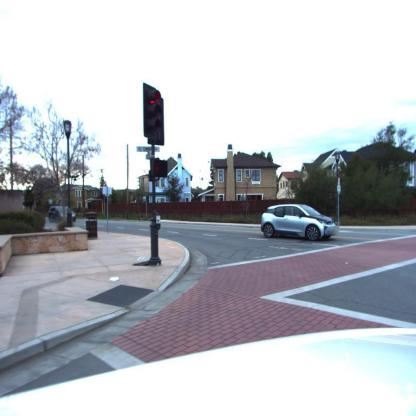car: (262, 204, 339, 241), (47, 205, 76, 223)
traffic light: (143, 85, 164, 146), (152, 161, 167, 178)
